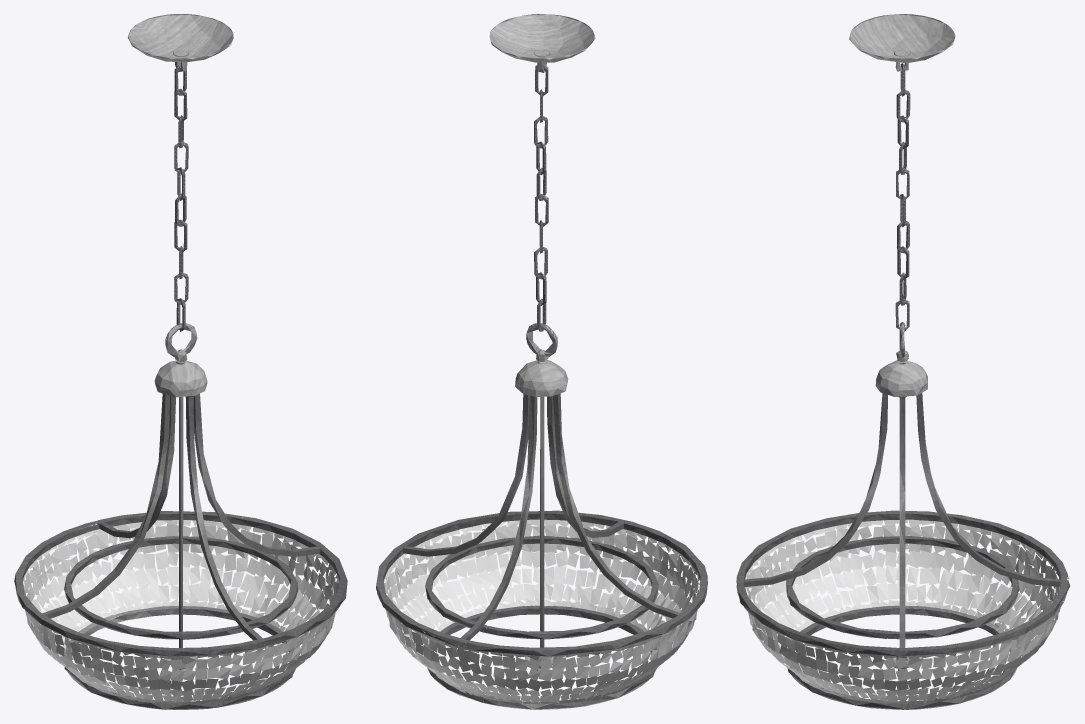
File: Light.fbx
3 renders of one model, left to right at view 1: azimuth 30°, elevation 25°; view 2: azimuth 150°, elevation 25°; view 3: azimuth 270°, elevation 25°, orthographic.
Visible parts, largest first — view 1: LightBase; view 2: LightBase; view 3: LightBase.
Part boxes in pixels (<box>): LightBase: <box>14,14,347,709</box>; LightBase: <box>376,14,707,709</box>; LightBase: <box>736,14,1070,709</box>.
Bounding box in the file's own units: 62.26 × 132 × 62.5.
